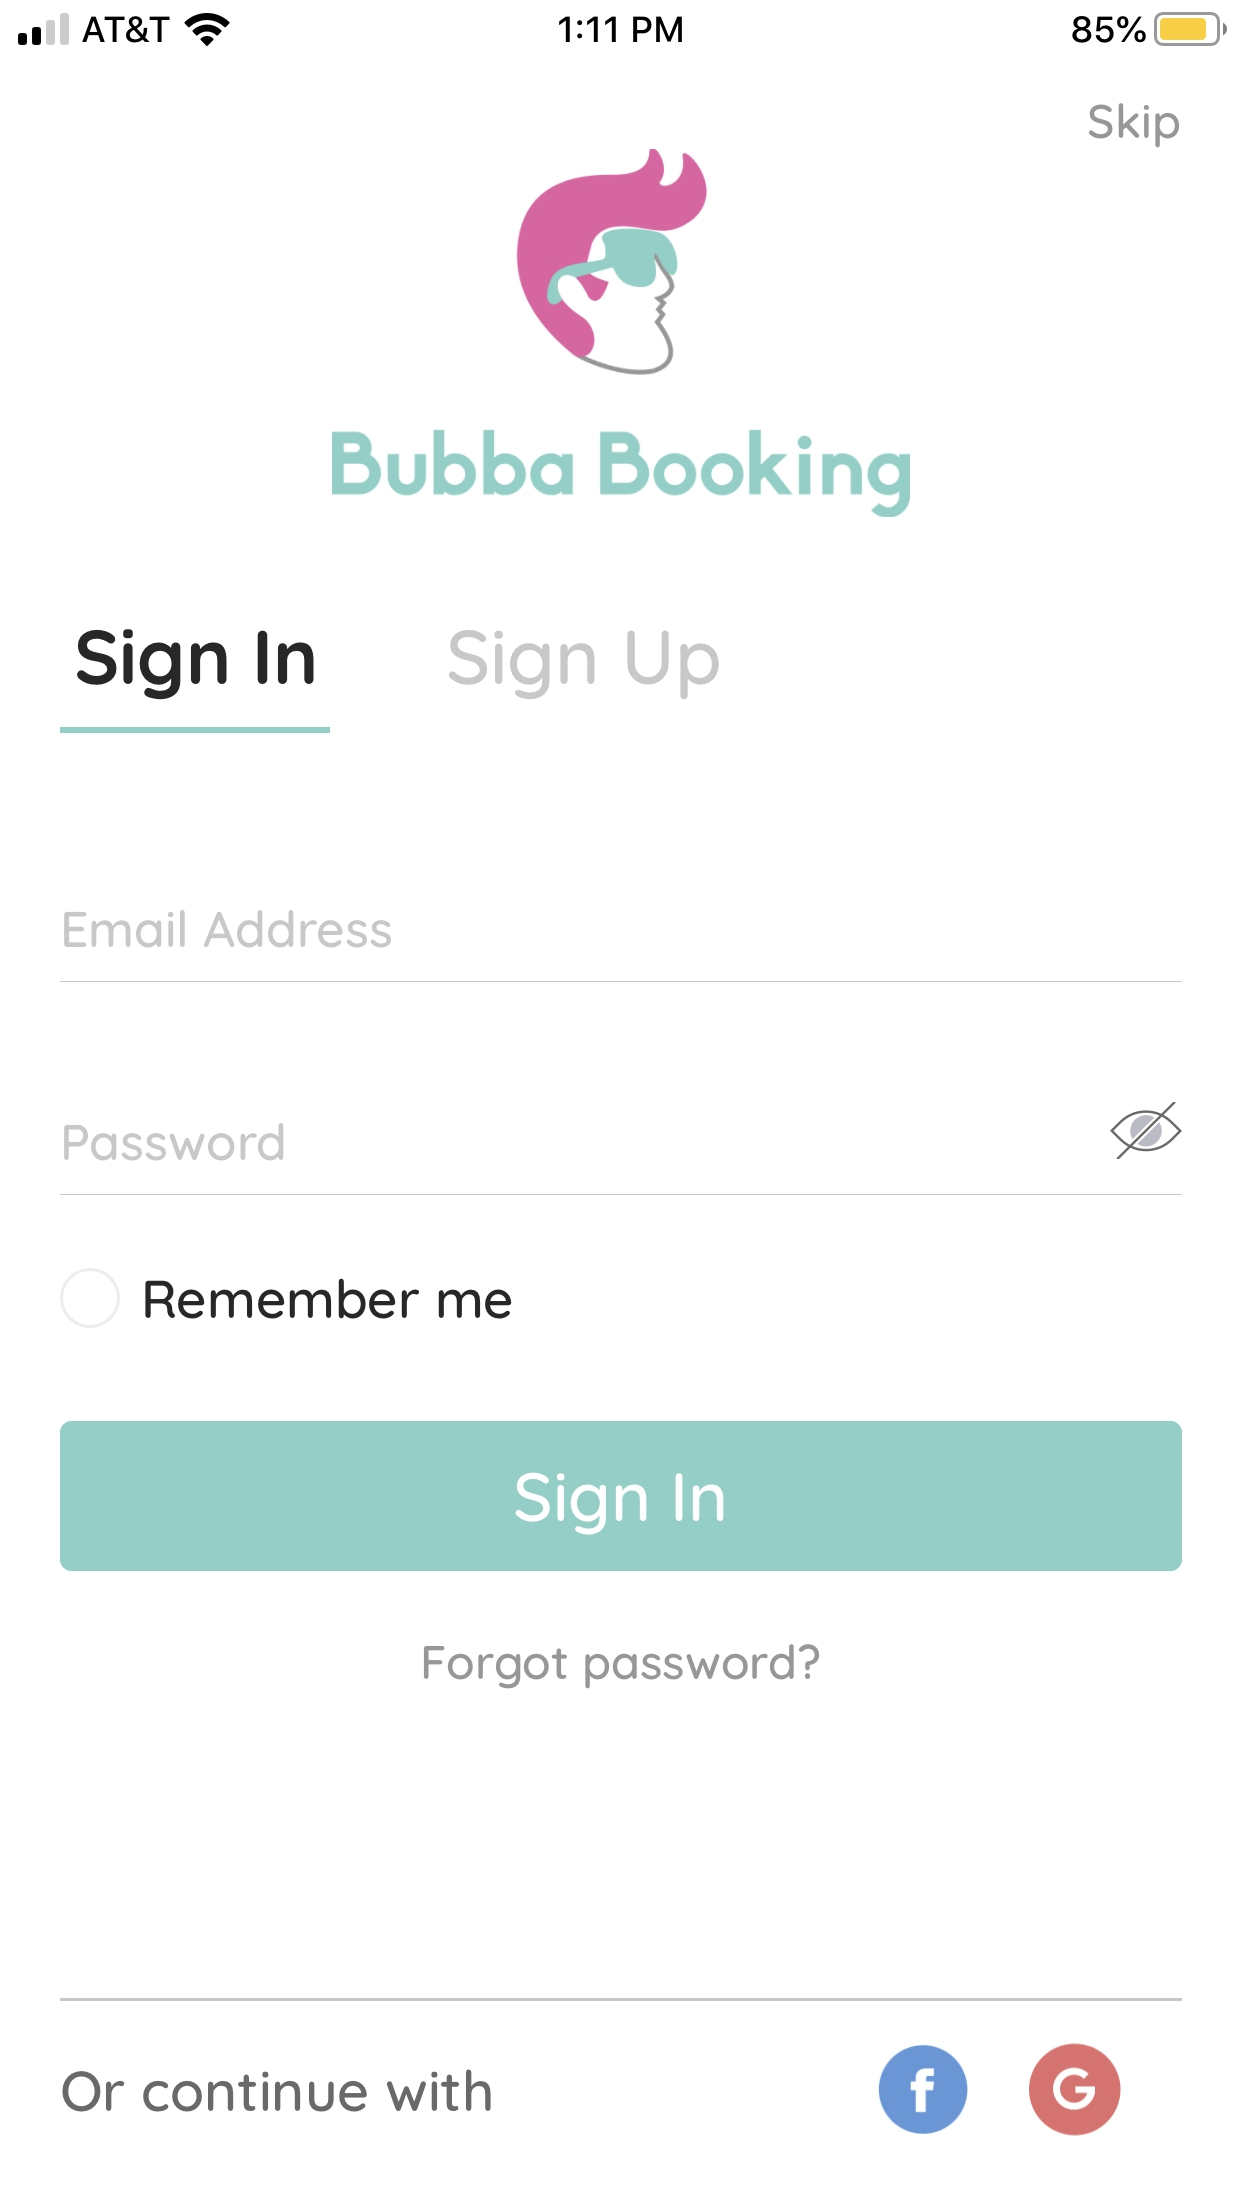CheckedTextView: (61, 1268, 513, 1328)
EditText: (61, 1102, 1181, 1197), (61, 910, 1181, 983)
Icon: (1030, 2044, 1121, 2137), (880, 2046, 968, 2134), (1110, 1102, 1181, 1160)
Image: (519, 150, 708, 376)
Text: (332, 429, 910, 519), (449, 629, 720, 701), (425, 1642, 820, 1689), (64, 2070, 491, 2111), (77, 629, 315, 701), (144, 1278, 513, 1319), (64, 910, 390, 949), (64, 1124, 285, 1162), (1087, 103, 1178, 149)
TextButton: (61, 1419, 1181, 1573)
UpperTaskBar: (2, 2, 1242, 49)
